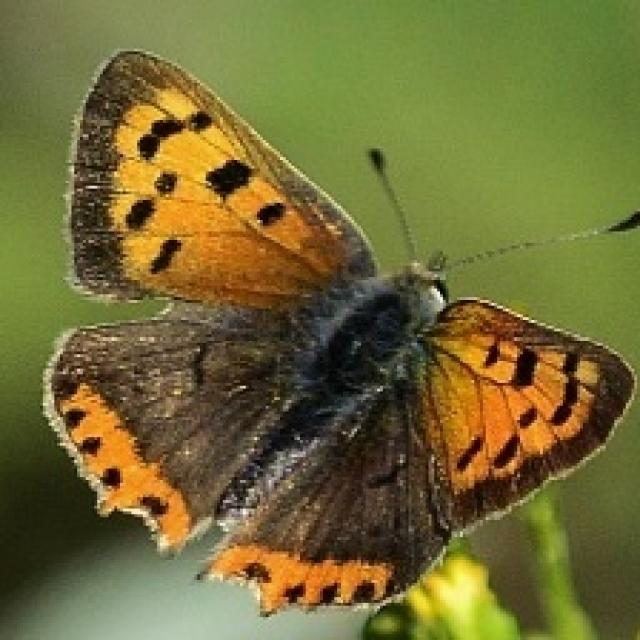butterfly: (37, 46, 637, 617)
